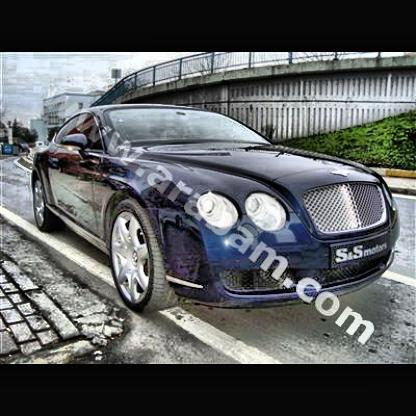Bentley Continental Flying Spur Sedan 2007: (30, 105, 405, 318)
